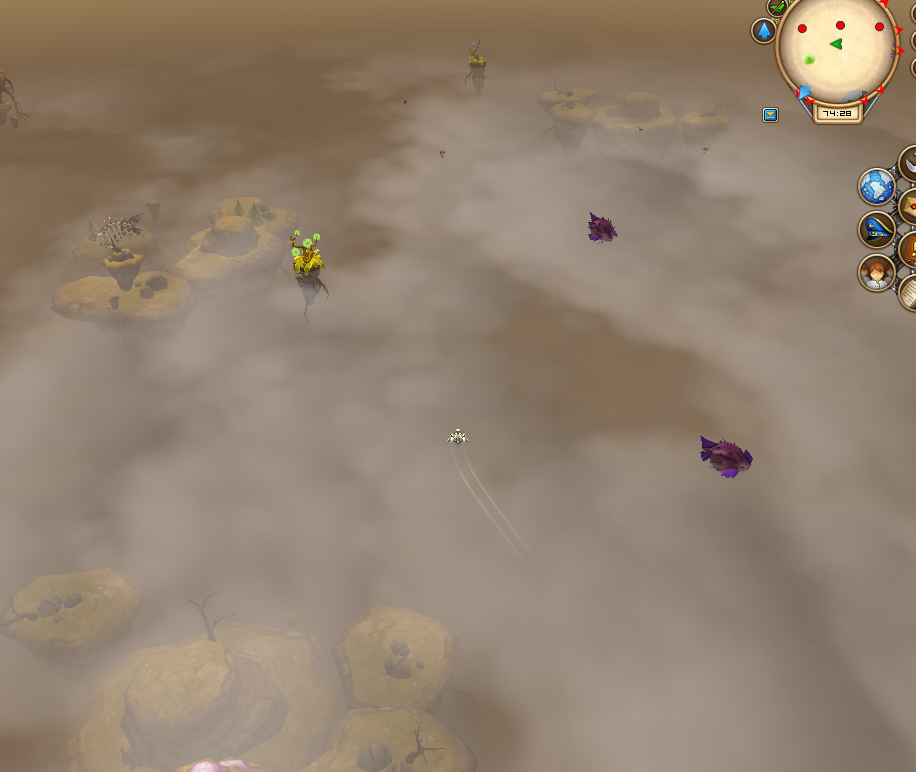dandelion-full: (284, 223, 334, 316), (460, 28, 492, 93)
